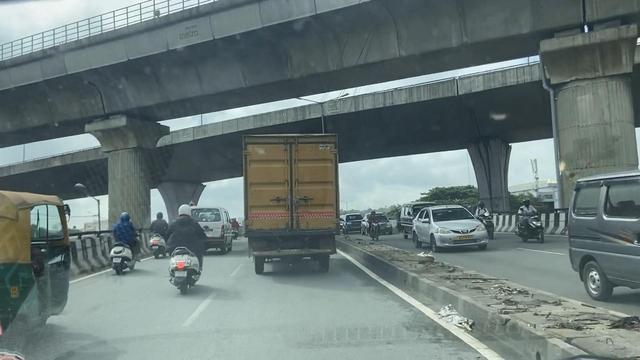HMV: (242, 131, 342, 276)
LMV: (168, 203, 205, 290), (114, 209, 135, 269)
